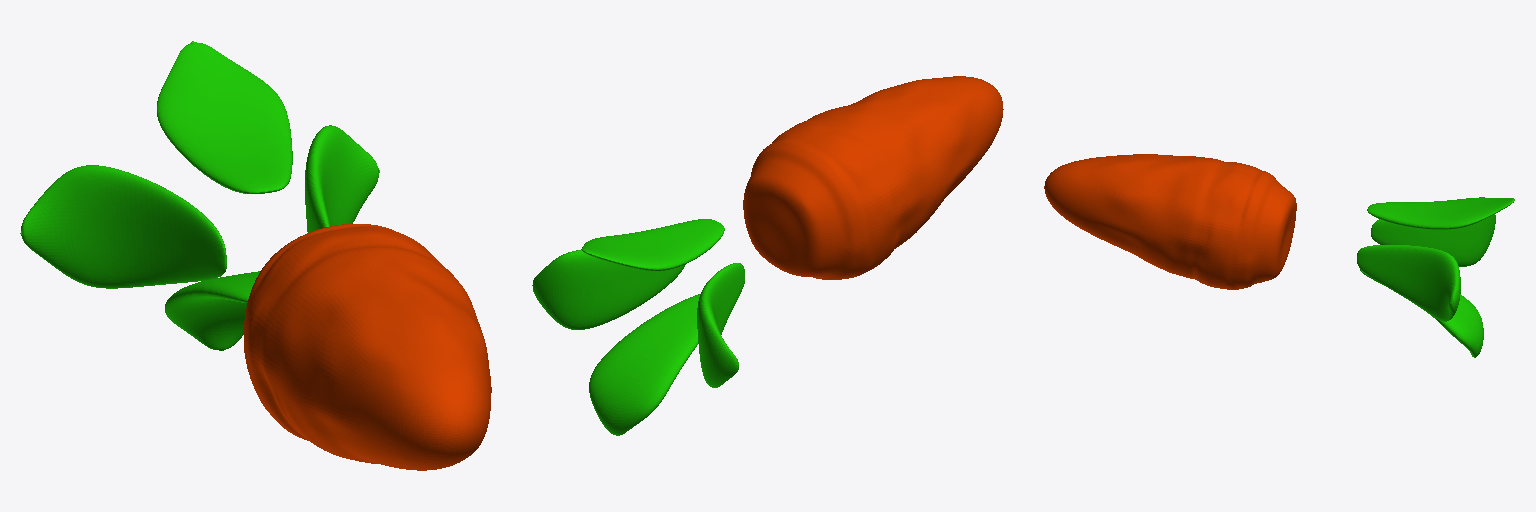
URDF robot description (carrot):
<robot name="carrot">
  <!-- 胡萝卜主体 -->
  <link name="body">
    <visual>
      <geometry>
        <mesh filename="carrot_body.obj" scale="0.02 0.02 0.02"/>
      </geometry>
      <material name="Orange">
        <color rgba="0.846874 0.283148 0.015209 1.0"/> <!-- 胡萝卜橙色 -->
      </material>
    </visual>
    <collision>
      <geometry>
        <box size="0.04 0.04 0.04"/> <!-- 使用立方体作为简化的碰撞体 -->
      </geometry>
    </collision>
    <inertial>
      <mass value="0.1"/> <!-- 设置质量为0.1单位 -->
      <inertia ixx="0.001" iyy="0.001" izz="0.001" ixy="0" ixz="0" iyz="0"/> <!-- 简单的惯性矩阵 -->
    </inertial>
  </link>

  <!-- 胡萝卜叶子 -->
  <link name="leaf">
    <visual>
      <geometry>
        <mesh filename="carrot_leaf.obj" scale="0.03 0.03 0.03"/>
      </geometry>
      <material name="Green">
        <color rgba="0.143275 0.800000 0.049616 1.0"/> <!-- 叶子绿色 -->
      </material>
    </visual>
    <collision>
      <geometry>
        <box size="0.02 0.02 0.05"/> <!-- 使用更小的立方体作为简化的碰撞体 -->
      </geometry>
    </collision>
    <inertial>
      <mass value="0.02"/> <!-- 叶子的质量设置为较小的值 -->
      <inertia ixx="0.0001" iyy="0.0001" izz="0.0001" ixy="0" ixz="0" iyz="0"/> <!-- 简单的惯性矩阵 -->
    </inertial>
  </link>

  <!-- 将叶子连接到主体 -->
  <joint name="body_to_leaf" type="fixed">
    <parent link="body"/>
    <child link="leaf"/>
    <origin xyz="0 0 0" rpy="0 0 0"/>
  </joint>
</robot>

--- Render facts (derived) ---
3 views of the same robot in one strip: view 1: azimuth 30°, elevation 25°; view 2: azimuth 150°, elevation 25°; view 3: azimuth 270°, elevation 25° (orthographic).
Model carrot with 2 links and 1 joints (1 fixed), rooted at body, posed every joint at zero.
Visible links, largest first — view 1: body, leaf; view 2: body, leaf; view 3: body, leaf.
Boxes of the visible links, x1,y1,x2,y2 form: body: (244, 224, 491, 470); leaf: (20, 41, 379, 350); body: (743, 76, 1003, 279); leaf: (532, 219, 744, 435); body: (1044, 154, 1296, 289); leaf: (1357, 197, 1514, 357).
Bounding box of the posed robot: 0.0699 × 0.1538 × 0.0605 m (x, y, z).
2 mesh visuals loaded from 2 distinct referenced files (2 OBJ).
